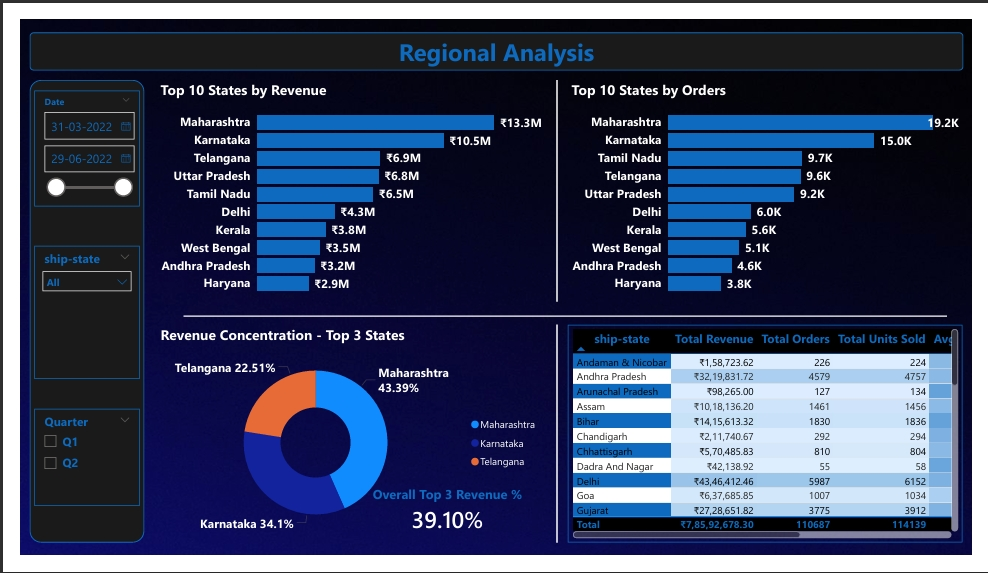

The dashboard page shown, as its layout file describes it:
{"tool":"powerbi","page":{"name":"Regional Analysis","canvas":[1280,720],"ordinal":2},"visuals":[{"type":"clusteredBarChart","title":"Top 10 States by Orders","fields":{"Category":["ecommerce_cleaned.ship-state"],"Y":["_Measures.Total Orders"]},"box":[735.8,80.6,531.4,298.1],"z":0},{"type":"tableEx","fields":{"Values":["ecommerce_cleaned.ship-state","_Measures.Total Revenue","_Measures.Total Orders","_Measures.Total Units Sold","_Measures.Avg Order Value","_Measures.Cancellation Rate","_Measures.State Rank"]},"box":[735.8,410.4,531.4,292.3],"z":1000},{"type":"clusteredBarChart","title":"Top 10 States by Revenue","fields":{"Y":["_Measures.Total Revenue"],"Category":["ecommerce_cleaned.ship-state"]},"box":[182.9,80.6,522.7,298.1],"z":2000},{"type":"shape","box":[11.5,17.2,1255.7,50.4],"z":3000,"group":"g3"},{"type":"textbox","box":[430.5,15.8,417.6,53.3],"z":4000,"group":"g3"},{"type":"donutChart","title":"Revenue Concentration - Top 3 States","fields":{"Category":["ecommerce_cleaned.ship-state"],"Y":["_Measures.Total Revenue"]},"box":[182.9,410.4,522.7,292.3],"z":4000,"group":"g2"},{"type":"group","id":"g1","title":"Group 1","box":[11.5,80.6,154.1,622.1],"z":5000},{"type":"shape","box":[11.5,80.6,154.1,622.1],"z":6000,"group":"g1"},{"type":"shape","box":[714.2,80.6,14.4,298.1],"z":6000},{"type":"slicer","fields":{"Values":["Date_Table.Date"]},"box":[17.3,95,142.6,155.5],"z":7000,"group":"g1"},{"type":"group","id":"g2","title":"Group 2","box":[182.9,410.4,522.7,292.3],"z":7000},{"type":"slicer","fields":{"Values":["ecommerce_cleaned.ship-state"]},"box":[17.3,303.8,142.6,178.6],"z":8000,"group":"g1"},{"type":"shape","box":[218.8,394.5,1026.7,8.6],"z":8000},{"type":"shape","box":[714.2,410.4,14.4,292.3],"z":9000},{"type":"slicer","fields":{"Values":["Date_Table.Quarter"]},"box":[17.3,522.7,142.6,131],"z":9000,"group":"g1"},{"type":"group","id":"g3","title":"Group 3","box":[11.5,15.8,1255.7,53.3],"z":9001},{"type":"cardVisual","fields":{"Data":["_Measures.Top 3 States Revenue %"]},"box":[442.1,614.9,263.5,87.8],"z":9001,"group":"g2"}]}

Visuals, with their boxes on the page's 1280x720 design canvas (x1, y1, x2, y2). These are canvas units, not pixel positions in the 988x573 screenshot, which may show the page scaled, cropped or inside an application window:
"Top 10 States by Orders" clusteredBarChart: x1=736 y1=81 x2=1267 y2=379
tableEx - ecommerce_cleaned.ship-state x _Measures.Total Revenue: x1=736 y1=410 x2=1267 y2=703
"Top 10 States by Revenue" clusteredBarChart: x1=183 y1=81 x2=706 y2=379
shape: x1=12 y1=17 x2=1267 y2=68
textbox: x1=430 y1=16 x2=848 y2=69
"Revenue Concentration - Top 3 States" donutChart: x1=183 y1=410 x2=706 y2=703
"Group 1" group: x1=12 y1=81 x2=166 y2=703
shape: x1=12 y1=81 x2=166 y2=703
shape: x1=714 y1=81 x2=729 y2=379
slicer - Date_Table.Date: x1=17 y1=95 x2=160 y2=250
"Group 2" group: x1=183 y1=410 x2=706 y2=703
slicer - ecommerce_cleaned.ship-state: x1=17 y1=304 x2=160 y2=482
shape: x1=219 y1=394 x2=1246 y2=403
shape: x1=714 y1=410 x2=729 y2=703
slicer - Date_Table.Quarter: x1=17 y1=523 x2=160 y2=654
"Group 3" group: x1=12 y1=16 x2=1267 y2=69
cardVisual - _Measures.Top 3 States Revenue %: x1=442 y1=615 x2=706 y2=703
